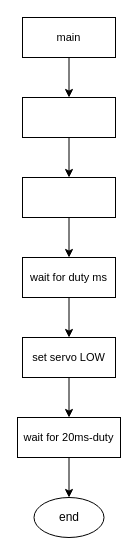
Some shapes in this 138 by 555 pixel diagram are drawn without their labels. Each missing label, with the centre of its shape:
"get duty number" goes at (x=69, y=197).
"set servo HIGH" goes at (x=69, y=117).
